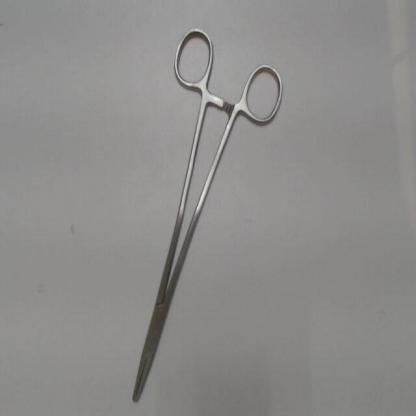8 Mayo Needle Holder: (126, 20, 292, 413)
